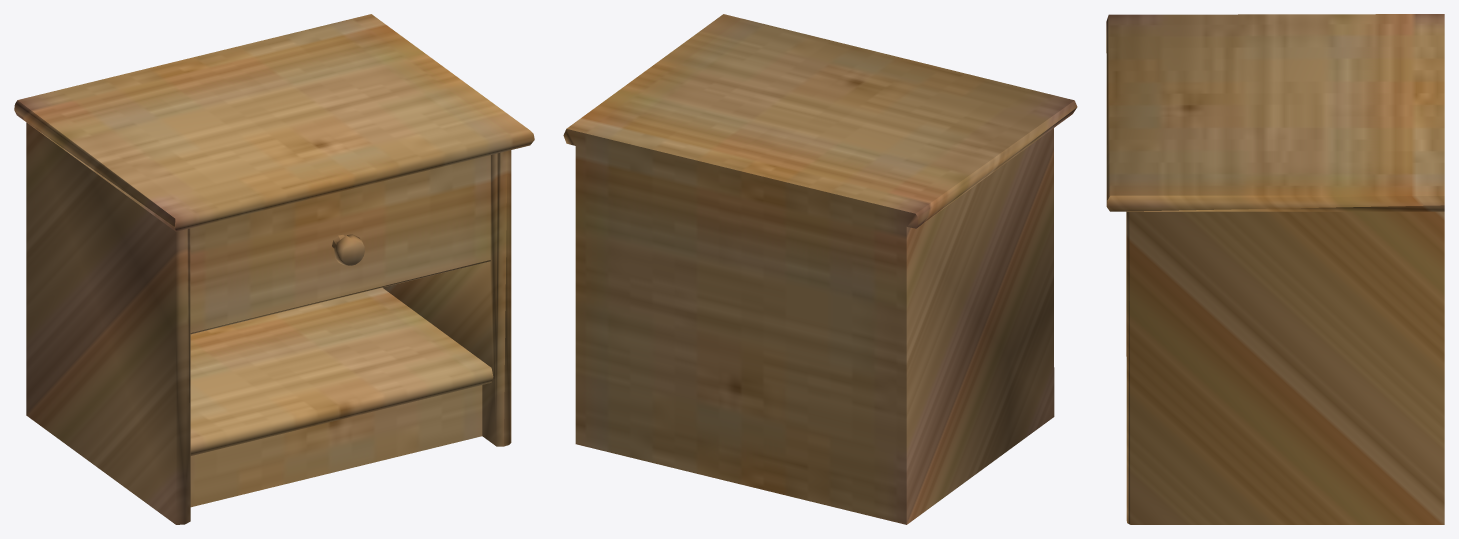
File: Table_de_nuit_Final_opt.obj
3 views of the same model, side by side, from view 1: azimuth 30°, elevation 25°; view 2: azimuth 150°, elevation 25°; view 3: azimuth 270°, elevation 25° (orthographic). The views are drawn at different scales.
Parts seen in each view (by area): view 1: default_1_1; view 2: default_1_1; view 3: default_1_1.
Part boxes in pixels (x1,y1,x2,y2): default_1_1: (14,14,534,524); default_1_1: (563,14,1077,524); default_1_1: (1106,14,1444,524).
Size of the model in its own units: 44.05 by 37.1 by 34.02.
1 material, 1 textured.
